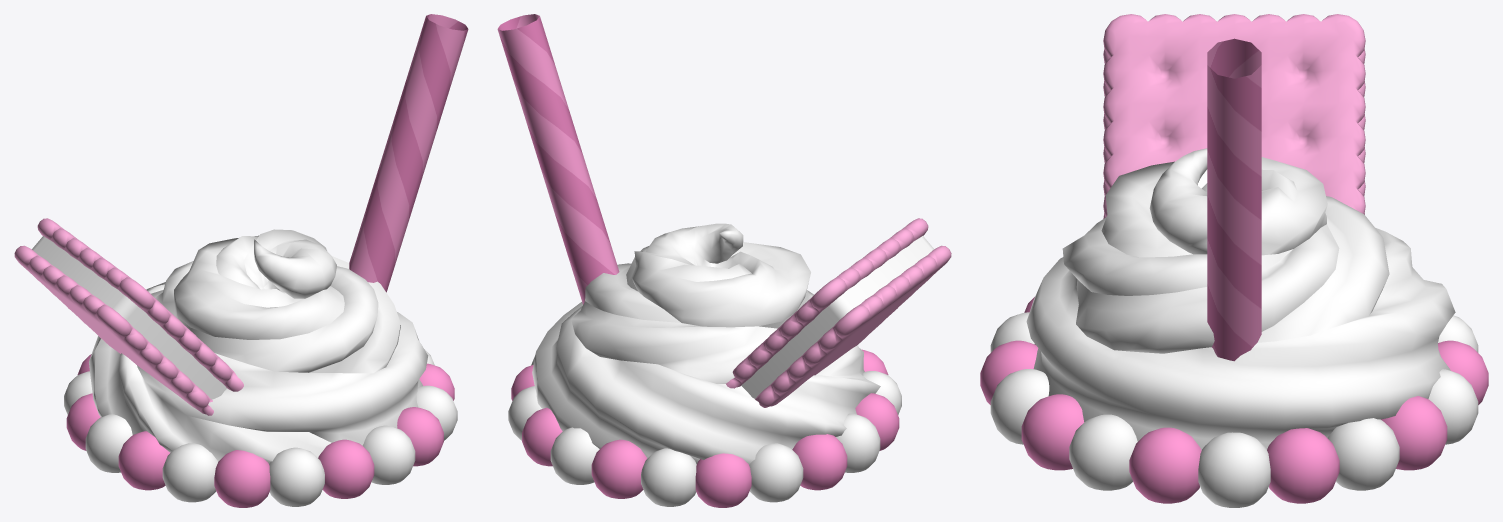
File: Cake_ThemeCandy_D.FBX
3 renders of one model, left to right at view 1: azimuth 30°, elevation 25°; view 2: azimuth 150°, elevation 25°; view 3: azimuth 270°, elevation 25°, orthographic. The views are drawn at different scales.
Parts seen in each view (by area): view 1: Cake_ThemeCandy_D; view 2: Cake_ThemeCandy_D; view 3: Cake_ThemeCandy_D.
Boxes of the visible parts, box(x1,y1,x2,y2) form: Cake_ThemeCandy_D: box(14, 14, 468, 507); Cake_ThemeCandy_D: box(497, 14, 951, 507); Cake_ThemeCandy_D: box(980, 14, 1488, 507).
Size of the model in its own units: 125766 by 108763 by 105910.
